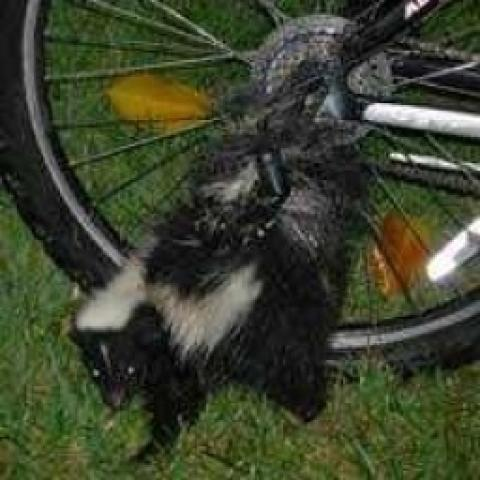small_animal: (70, 74, 372, 459)
